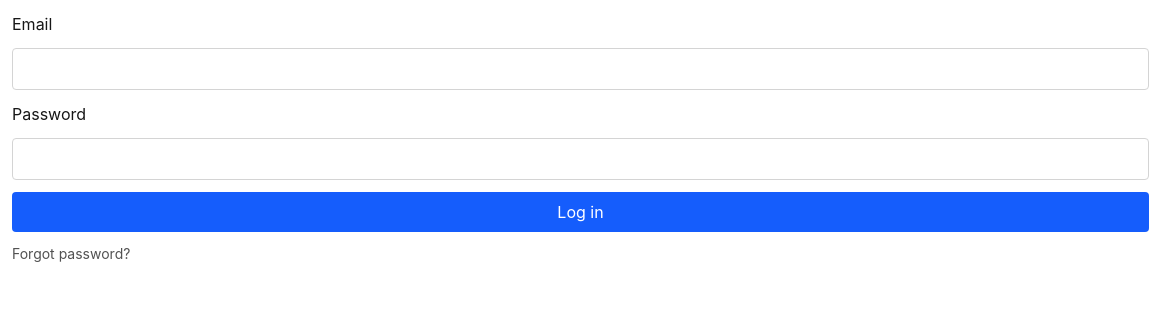
LoginForm › shows an error and does not redirect on failure
Type "user@example.com" into the field labelled "Email" at point(580, 69), box [12, 48, 1149, 90]
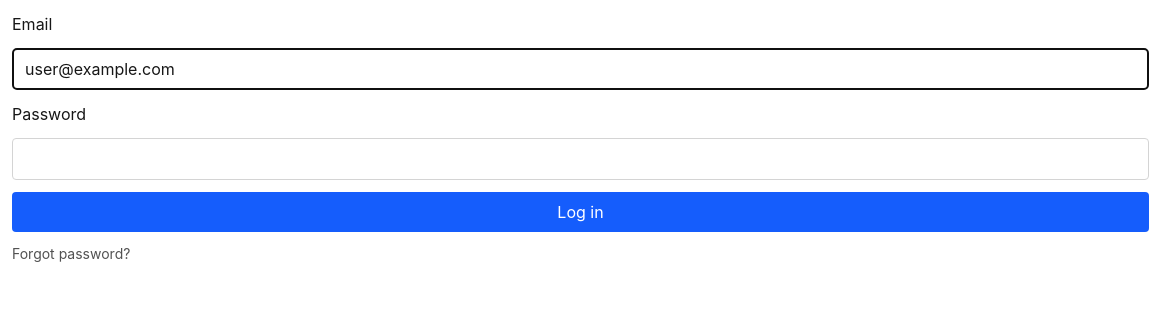
Type "wrong" into the password field labelled "Password" at point(580, 159), box [12, 138, 1149, 180]
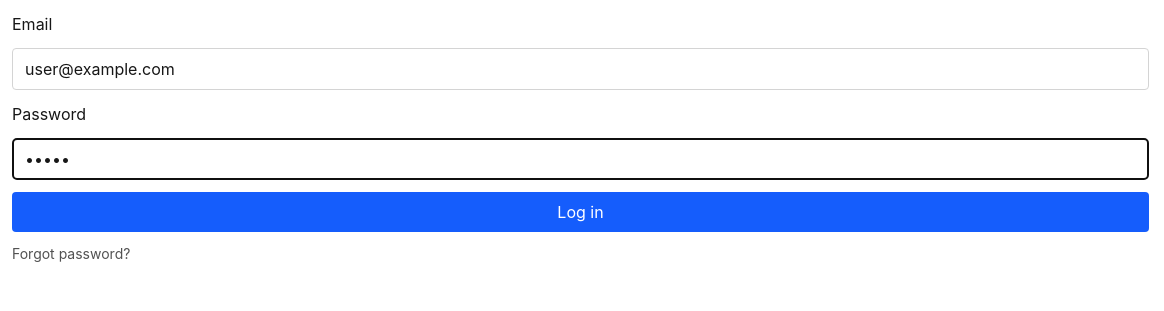
Click the button "Log in" at point(580, 212), box [12, 192, 1149, 232]
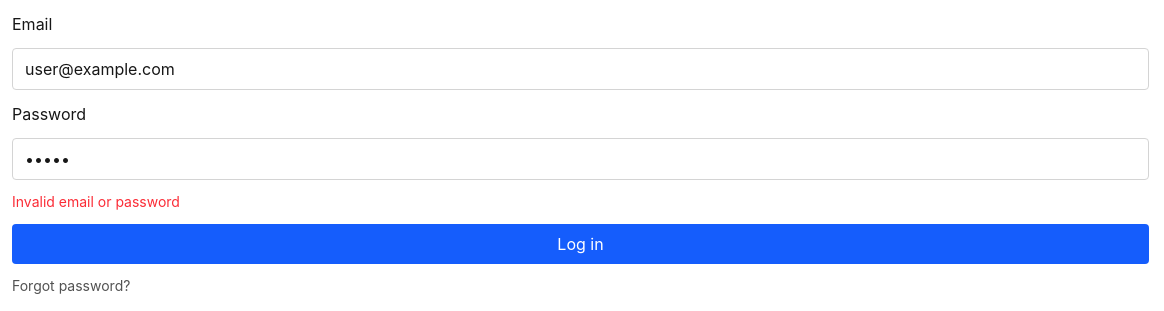
Result: the text "Invalid email or password" is shown at [12, 193, 180, 210]
